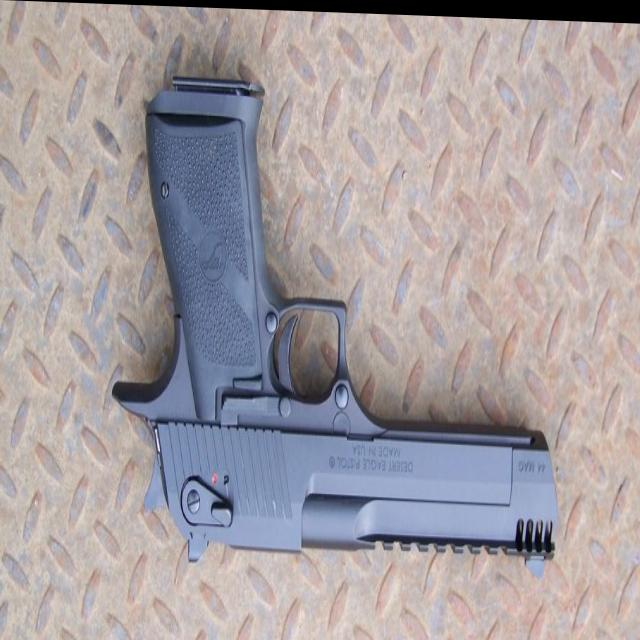handgun: (107, 44, 572, 580)
